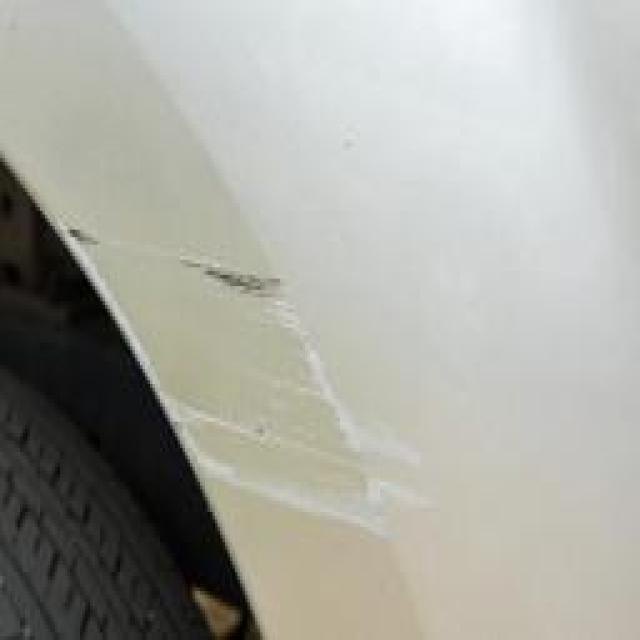Bumper: (60, 188, 475, 553)
